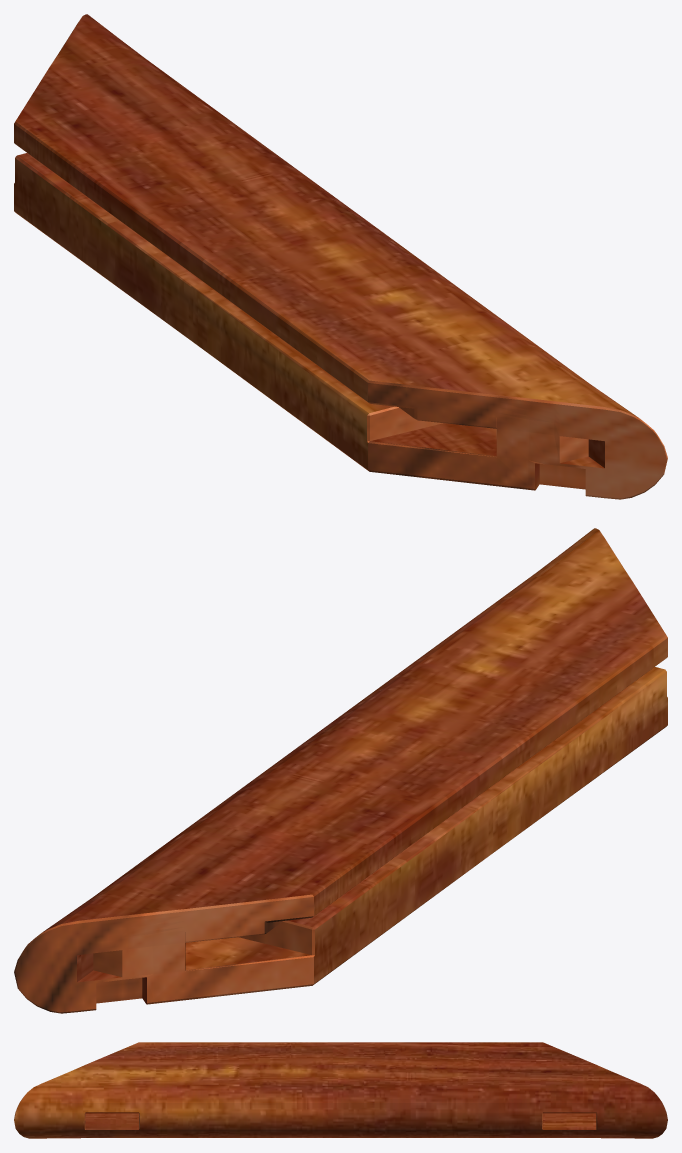
The model's file is ytsy_J_motou_22.FBX.
3 views of the same model, one above another, from view 1: azimuth 30°, elevation 25°; view 2: azimuth 150°, elevation 25°; view 3: azimuth 270°, elevation 25° (orthographic). The views are drawn at different scales.
Parts seen in each view (by area): view 1: ytsy_J_motou_22; view 2: ytsy_J_motou_22; view 3: ytsy_J_motou_22.
Part boxes in pixels (left/top/right/bottom): ytsy_J_motou_22: left=14, top=14, right=667, bottom=499; ytsy_J_motou_22: left=14, top=528, right=667, bottom=1013; ytsy_J_motou_22: left=14, top=1042, right=667, bottom=1138.
Size of the model in its own units: 7 by 3.2 by 36.4.
